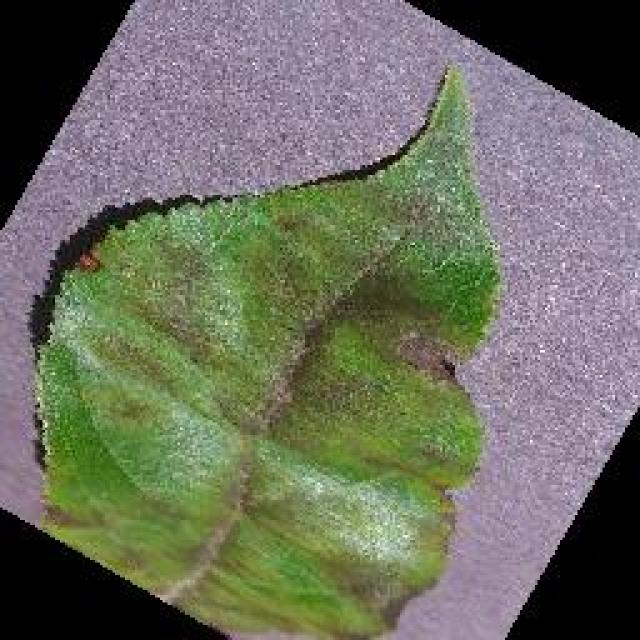apple scab disease: (27, 58, 505, 638)
